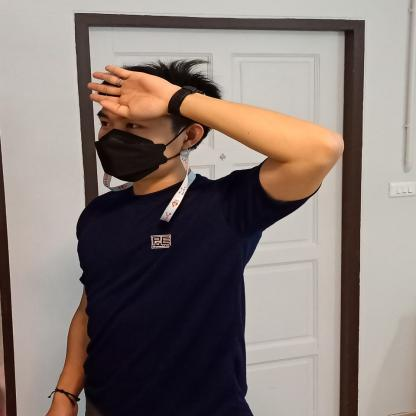Sick: (59, 34, 253, 142)
